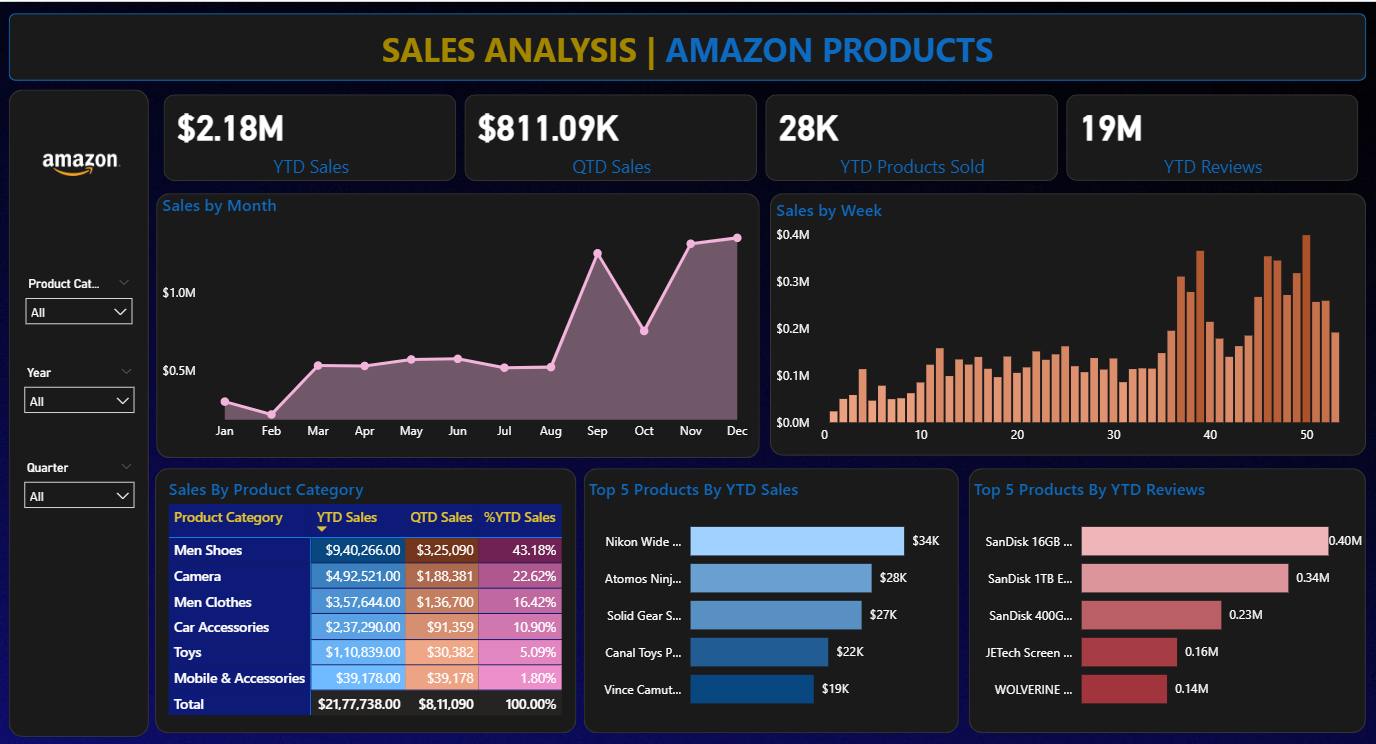

The page's visual inventory and layout, read from the dashboard file:
{"tool":"powerbi","page":{"name":"Page 1","canvas":[1350,730],"ordinal":0},"visuals":[{"type":"shape","box":[8.6,11,1331.9,66.2],"z":0},{"type":"textbox","box":[8.6,19.6,1331.9,57.6],"z":1000},{"type":"shape","box":[8.6,85.8,137.4,635.3],"z":2000},{"type":"cardVisual","fields":{"Data":["Amazon_Data.YTD Sales","Amazon_Data.QTD Sales","Amazon_Data.YTD Products Sold","Amazon_Data.YTD Reviews"]},"box":[155.8,85.8,1184.7,95.7],"z":3000},{"type":"shape","box":[153.3,187.6,592.3,260],"z":4000},{"type":"areaChart","title":"Sales by Month ","fields":{"Category":["Date Table.Month Name"],"Y":["Amazon_Data.Price(Dollar)"]},"box":[154.5,187.6,592.3,251.4],"z":5000},{"type":"shape","box":[755.5,187.6,585,257.5],"z":6000},{"type":"columnChart","title":"Sales by Week","fields":{"Y":["Amazon_Data.Price(Dollar)"],"Category":["Date Table.Week Number"]},"box":[756.7,192.5,585,250.2],"z":7000},{"type":"shape","box":[152.1,457.4,413.3,260],"z":8000},{"type":"pivotTable","title":"Sales By Product Category","fields":{"Rows":["Amazon_Data.Product Category"],"Values":["Amazon_Data.YTD Sales","Amazon_Data.QTD Sales","Divide(Amazon_Data.YTD Sales, ScopedEval(Amazon_Data.YTD Sales, []))"]},"box":[160.7,466,404.7,246.5],"z":9000},{"type":"shape","box":[572.7,457.4,367.9,260],"z":10000},{"type":"shape","box":[950.4,457.4,390,260],"z":11000},{"type":"clusteredBarChart","title":"Top 5 Products By YTD Sales","fields":{"Category":["Amazon_Data.Product Description"],"Y":["Amazon_Data.YTD Sales"]},"box":[572.7,466,367.9,242.8],"z":12000},{"type":"clusteredBarChart","title":"Top 5 Products By YTD Reviews","fields":{"Category":["Amazon_Data.Product Description"],"Y":["Amazon_Data.YTD Reviews"]},"box":[950.4,466,391.2,242.8],"z":13000},{"type":"slicer","fields":{"Values":["Amazon_Data.Product Category"]},"box":[14.7,264.9,125.1,65],"z":14000},{"type":"slicer","fields":{"Values":["Date Table.Date.Variation.Date Hierarchy.Quarter"]},"box":[13.5,445.2,128.8,65],"z":15000},{"type":"slicer","fields":{"Values":["Date Table.Date.Variation.Date Hierarchy.Year"]},"box":[13.5,352,128.8,65],"z":16000},{"type":"image","box":[15.9,100.6,125.1,117.7],"z":16001}]}

Visuals, with their boxes in screenshot pixels (x1, y1, x2, y2), scaled from the page's 1350x730 canvas onto the 1376x744 screenshot:
shape: [x1=9, y1=11, x2=1366, y2=79]
textbox: [x1=9, y1=20, x2=1366, y2=79]
shape: [x1=9, y1=87, x2=149, y2=735]
cardVisual - Amazon_Data.YTD Sales x Amazon_Data.QTD Sales: [x1=159, y1=87, x2=1366, y2=185]
shape: [x1=156, y1=191, x2=760, y2=456]
"Sales by Month " areaChart: [x1=157, y1=191, x2=761, y2=447]
shape: [x1=770, y1=191, x2=1366, y2=454]
"Sales by Week" columnChart: [x1=771, y1=196, x2=1368, y2=451]
shape: [x1=155, y1=466, x2=576, y2=731]
"Sales By Product Category" pivotTable: [x1=164, y1=475, x2=576, y2=726]
shape: [x1=584, y1=466, x2=959, y2=731]
shape: [x1=969, y1=466, x2=1366, y2=731]
"Top 5 Products By YTD Sales" clusteredBarChart: [x1=584, y1=475, x2=959, y2=722]
"Top 5 Products By YTD Reviews" clusteredBarChart: [x1=969, y1=475, x2=1367, y2=722]
slicer - Amazon_Data.Product Category: [x1=15, y1=270, x2=142, y2=336]
slicer - Date Table.Date.Variation.Date Hierarchy.Quarter: [x1=14, y1=454, x2=145, y2=520]
slicer - Date Table.Date.Variation.Date Hierarchy.Year: [x1=14, y1=359, x2=145, y2=425]
image: [x1=16, y1=103, x2=144, y2=222]
